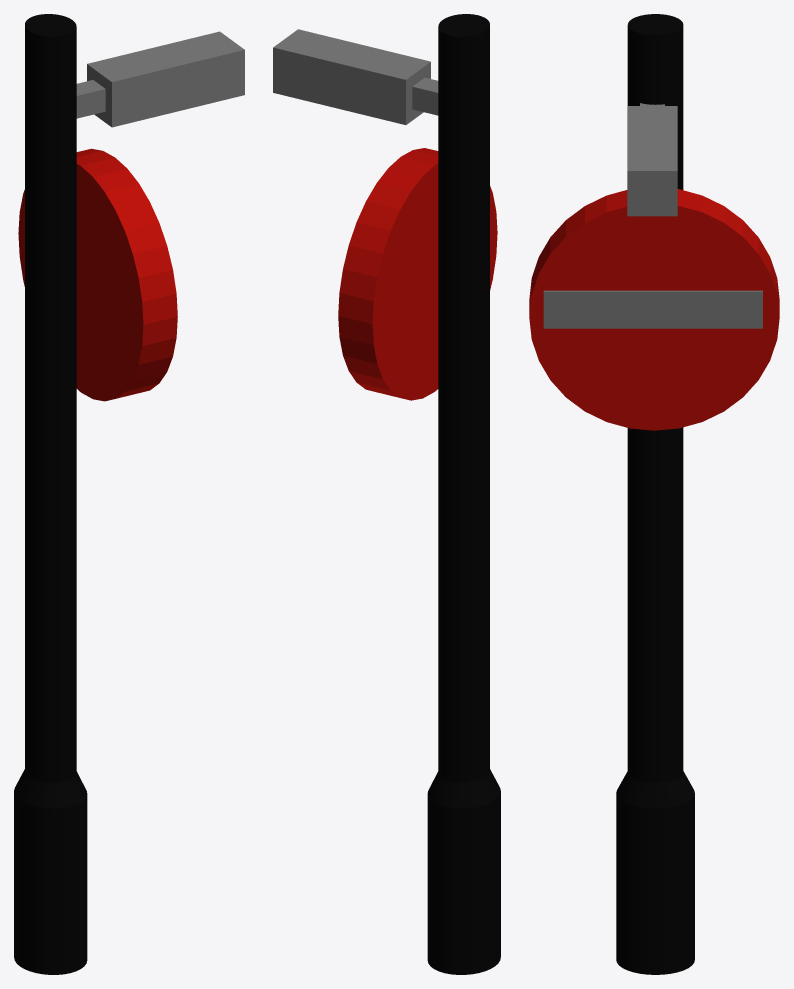
File: NoEntry.fbx
3 views of the same model, side by side, from view 1: azimuth 30°, elevation 25°; view 2: azimuth 150°, elevation 25°; view 3: azimuth 270°, elevation 25° (orthographic).
Visible parts, largest first — view 1: NoEntry_LOD0; view 2: NoEntry_LOD0; view 3: NoEntry_LOD0.
Boxes of the visible parts, left/top/right/bottom form: NoEntry_LOD0: left=14, top=14, right=244, bottom=974; NoEntry_LOD0: left=273, top=14, right=500, bottom=974; NoEntry_LOD0: left=529, top=14, right=779, bottom=974.
Size of what is drawn, in the model's own units: 101 by 428 by 104.
